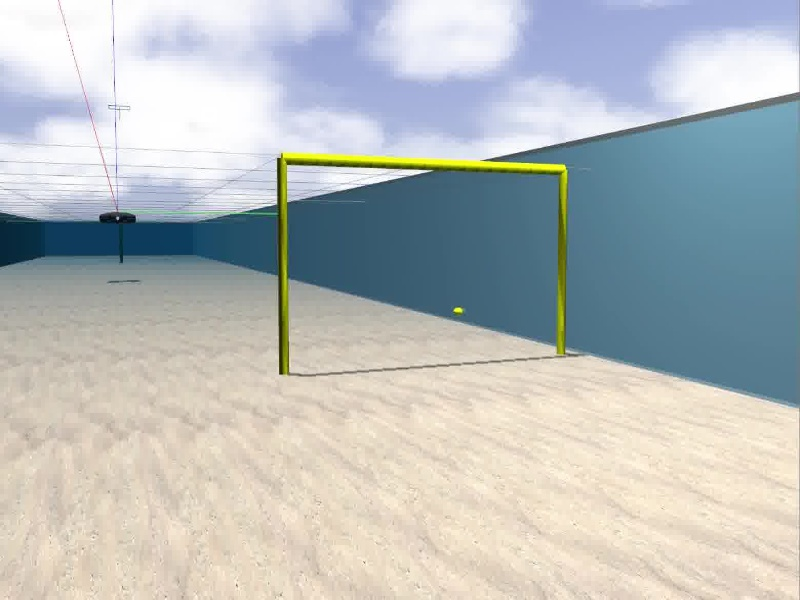gate: (275, 151, 568, 377)
